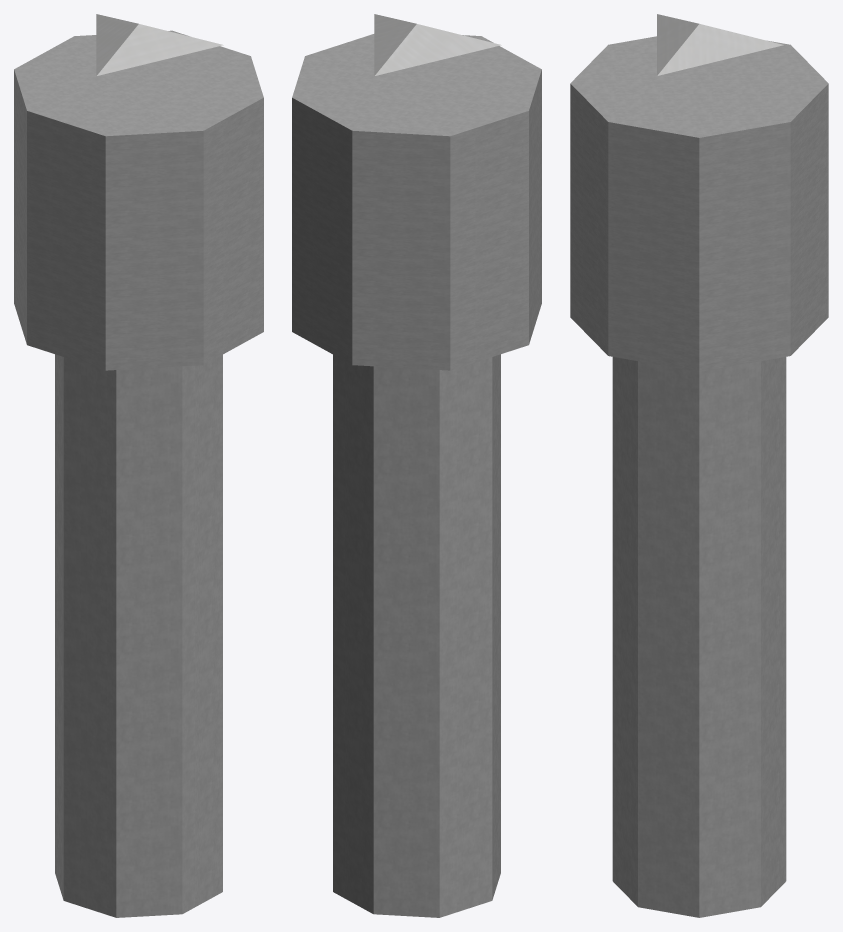
The model's file is water-tower-concrete-37x11-cbj_LOD03.gltf.
3 views of the same model, side by side, from view 1: azimuth 30°, elevation 25°; view 2: azimuth 150°, elevation 25°; view 3: azimuth 270°, elevation 25° (orthographic).
Parts seen in each view (by area): view 1: Cylinder03; view 2: Cylinder03; view 3: Cylinder03.
Boxes of the visible parts, x1,y1,x2,y2 form: Cylinder03: (14,14,263,917); Cylinder03: (292,14,541,917); Cylinder03: (570,14,828,917).
Bounding box in the file's own units: 11 × 40.3 × 11.
